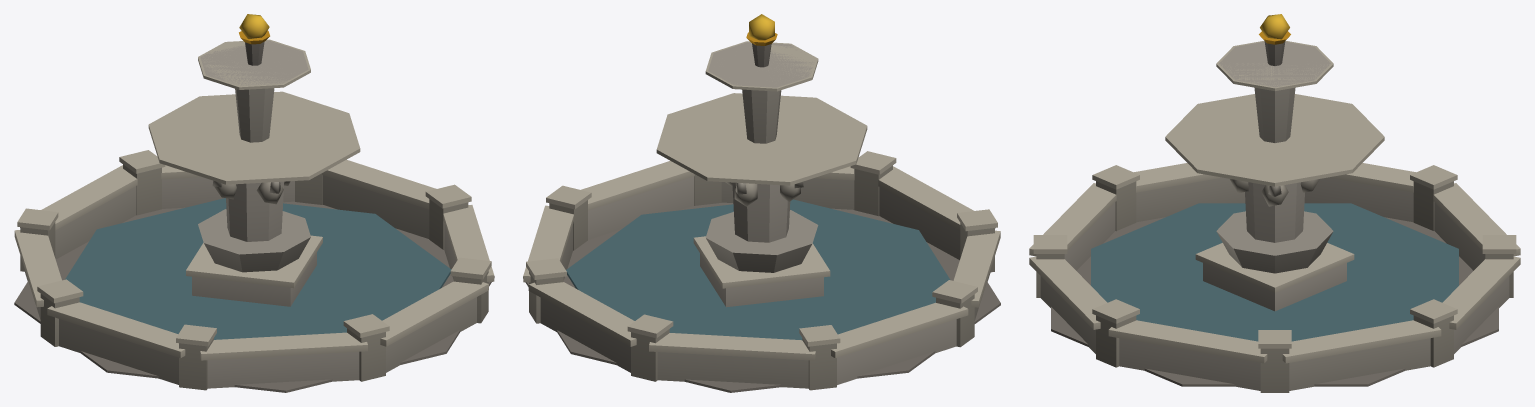
Rendered from rb_fountain_low.glb.
The picture shows the model from 3 angles, left to right: view 1: azimuth 30°, elevation 25°; view 2: azimuth 150°, elevation 25°; view 3: azimuth 270°, elevation 25°; orthographic projection.
Parts seen in each view (by area): view 1: rb_fountain_LOD1; view 2: rb_fountain_LOD1; view 3: rb_fountain_LOD1.
Boxes of the visible parts, left/top/right/bottom form: rb_fountain_LOD1: left=14, top=14, right=494, bottom=392; rb_fountain_LOD1: left=523, top=14, right=1000, bottom=392; rb_fountain_LOD1: left=1029, top=14, right=1520, bottom=392.
Size of the model in its own units: 9.63 by 5.97 by 9.63.
